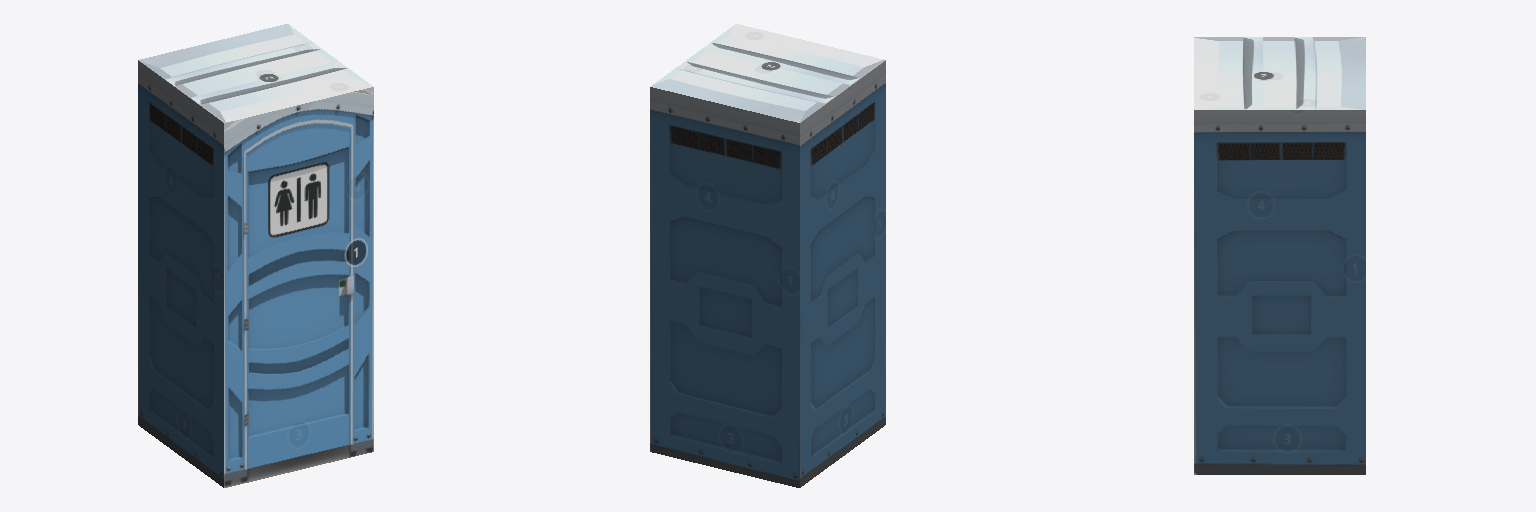
3 views of the same model, side by side, from view 1: azimuth 30°, elevation 25°; view 2: azimuth 150°, elevation 25°; view 3: azimuth 270°, elevation 25° (orthographic).
Visible parts, largest first — view 1: Cube; view 2: Cube; view 3: Cube.
Part boxes in pixels (x1,y1,x2,y2): Cube: (138, 24, 373, 487); Cube: (650, 24, 885, 487); Cube: (1194, 37, 1365, 474).
Size of the model in its own units: 3.71 by 8.66 by 3.71.
1 materials, 1 textured.